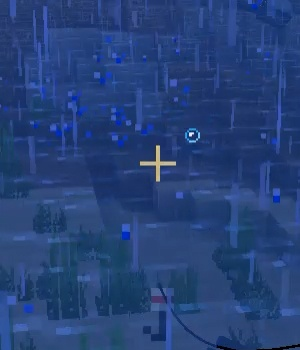down: (140, 279, 180, 348)
